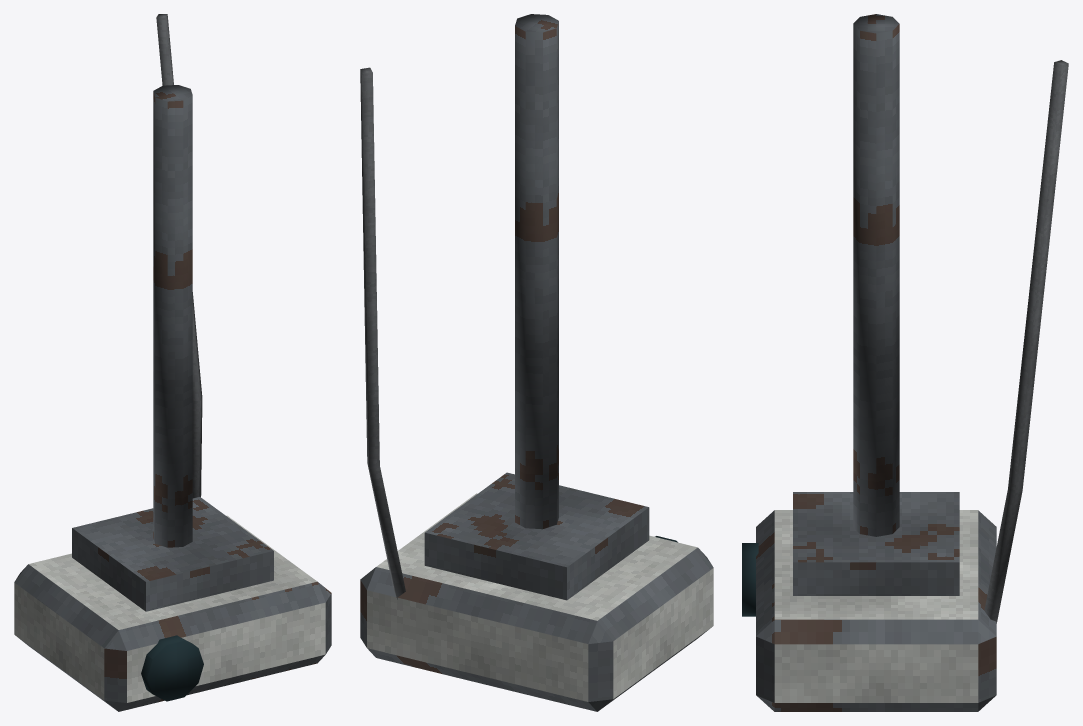
Rendered from Lab_ProjectorMount.fbx.
The picture shows the model from 3 angles, left to right: view 1: azimuth 30°, elevation 25°; view 2: azimuth 150°, elevation 25°; view 3: azimuth 270°, elevation 25°; orthographic projection. The views are drawn at different scales.
Visible parts, largest first — view 1: Lab_ProjectorMount; view 2: Lab_ProjectorMount; view 3: Lab_ProjectorMount.
Part boxes in pixels (x1,y1,x2,y2): Lab_ProjectorMount: [14, 14, 331, 711]; Lab_ProjectorMount: [360, 14, 713, 711]; Lab_ProjectorMount: [742, 14, 1068, 711].
Bounding box in the file's own units: 0.32 × 0.7558 × 0.353.
